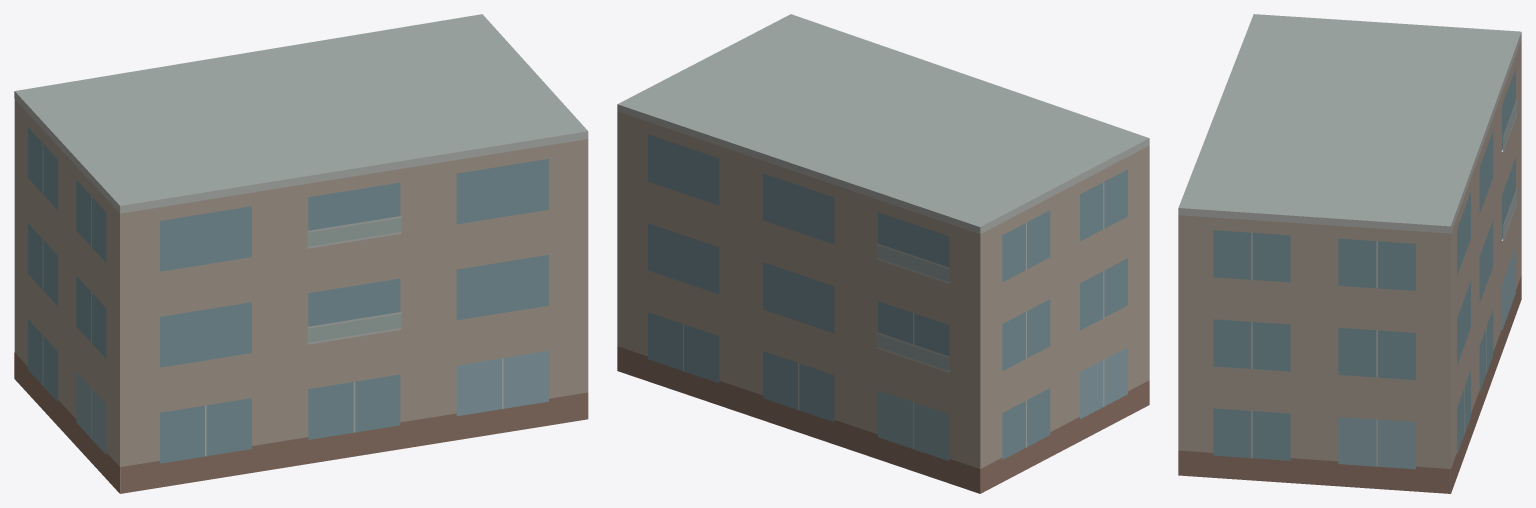
Rendered from survey-upis-32702602.glb.
3 renders of one model, left to right at view 1: azimuth 30°, elevation 25°; view 2: azimuth 150°, elevation 25°; view 3: azimuth 270°, elevation 25°, orthographic. The views are drawn at different scales.
Visible parts, largest first — view 1: survey-upis-32702602.tmp; view 2: survey-upis-32702602.tmp; view 3: survey-upis-32702602.tmp.
Boxes of the visible parts, bbox=[...] form: survey-upis-32702602.tmp: bbox=[14, 14, 588, 493]; survey-upis-32702602.tmp: bbox=[617, 14, 1149, 493]; survey-upis-32702602.tmp: bbox=[1178, 14, 1521, 493].
Bounding box in the file's own units: 15.59 × 9.15 × 10.65.
